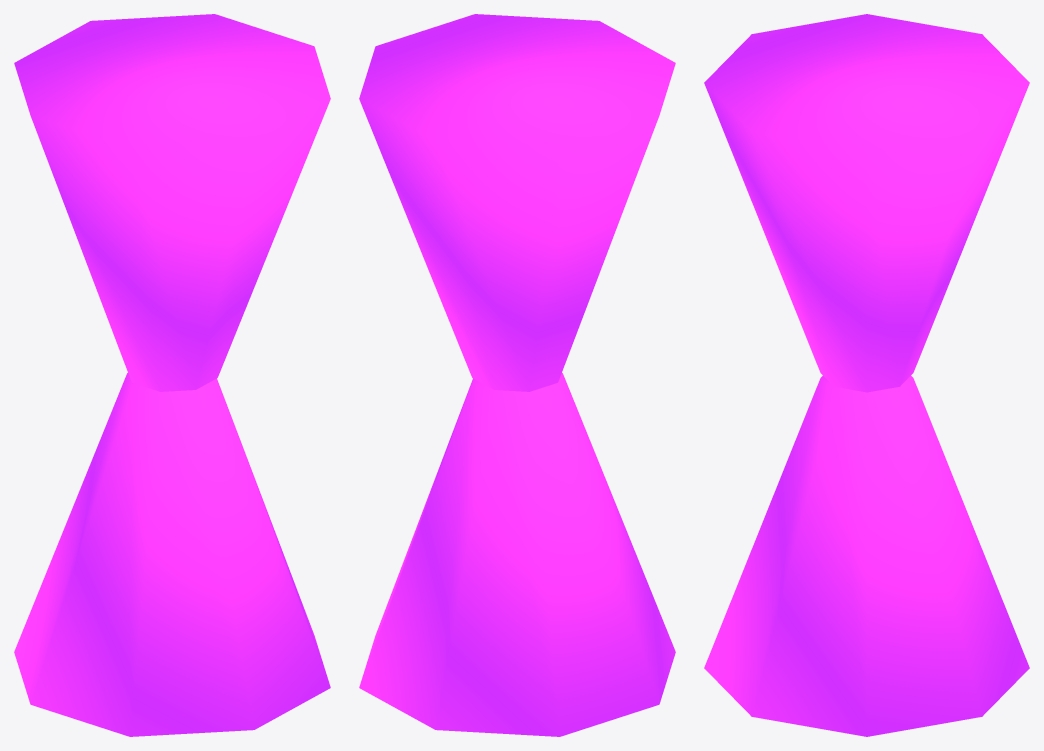
File: TrafficCurse.glb
3 views of the same model, side by side, from view 1: azimuth 30°, elevation 25°; view 2: azimuth 150°, elevation 25°; view 3: azimuth 270°, elevation 25° (orthographic).
Visible parts, largest first — view 1: VFX_TrafficCurse; view 2: VFX_TrafficCurse; view 3: VFX_TrafficCurse.
Part boxes in pixels (left/top/right/bottom): VFX_TrafficCurse: left=14, top=14, right=330, bottom=736; VFX_TrafficCurse: left=359, top=14, right=675, bottom=736; VFX_TrafficCurse: left=704, top=14, right=1029, bottom=736.
Bounding box in the file's own units: 0.56 × 1.11 × 0.56.
